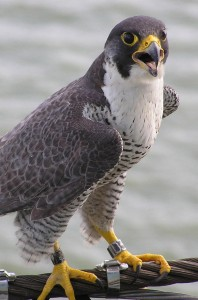Pengoyak Daging: (139, 36, 167, 82)
